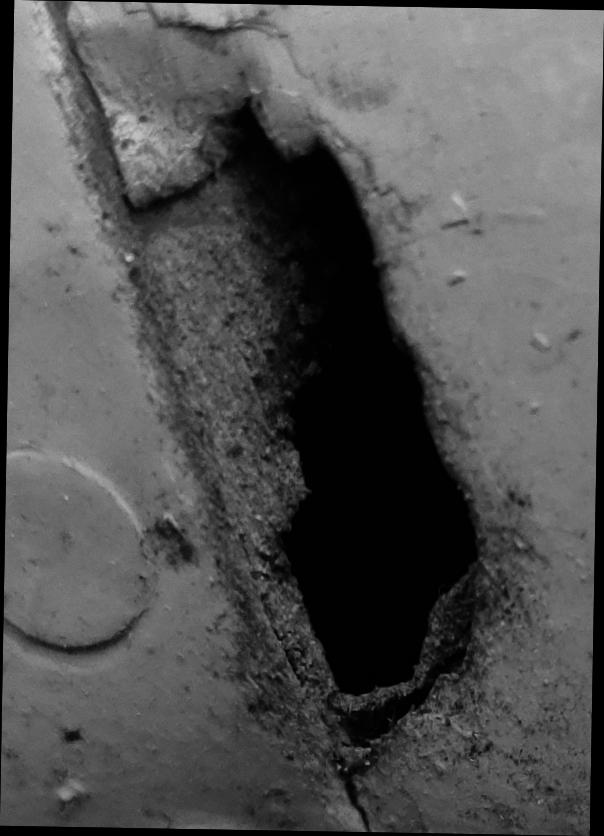crack: (0, 1, 604, 836)
